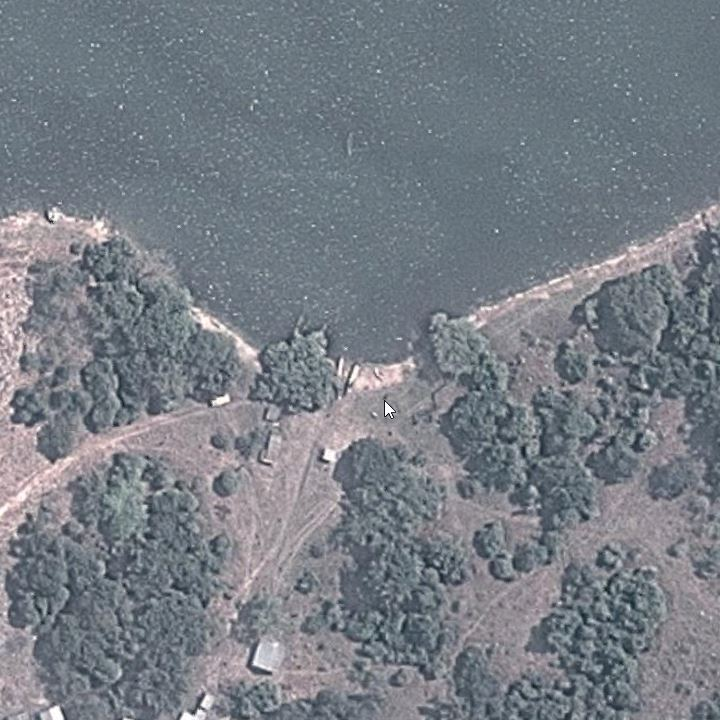boat: (340, 360, 366, 400), (331, 349, 352, 383)
